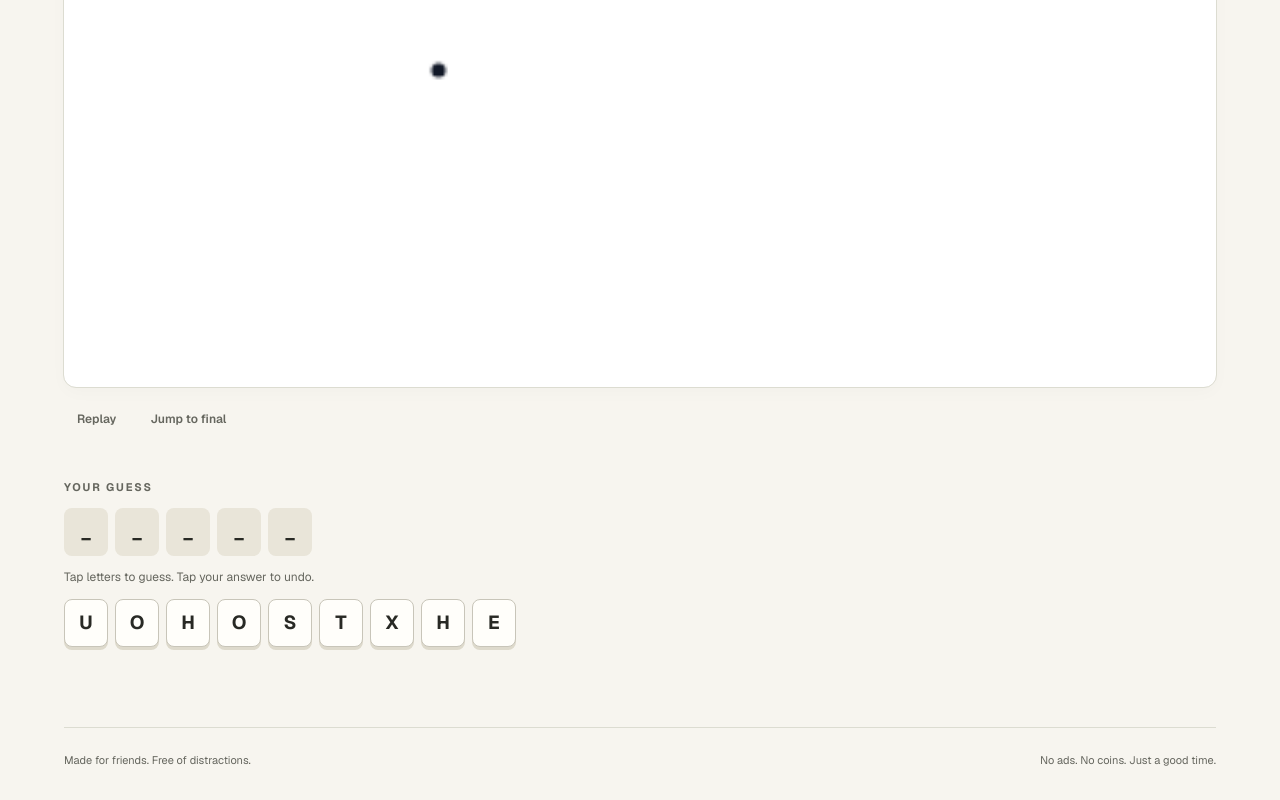
Test: TryPage (DESIGN-11 sample round) › solves with a correct guess, entirely client-side
(page scrolled)
Click the 1st button "H".
click(188, 623)  # box [166,599,210,647]
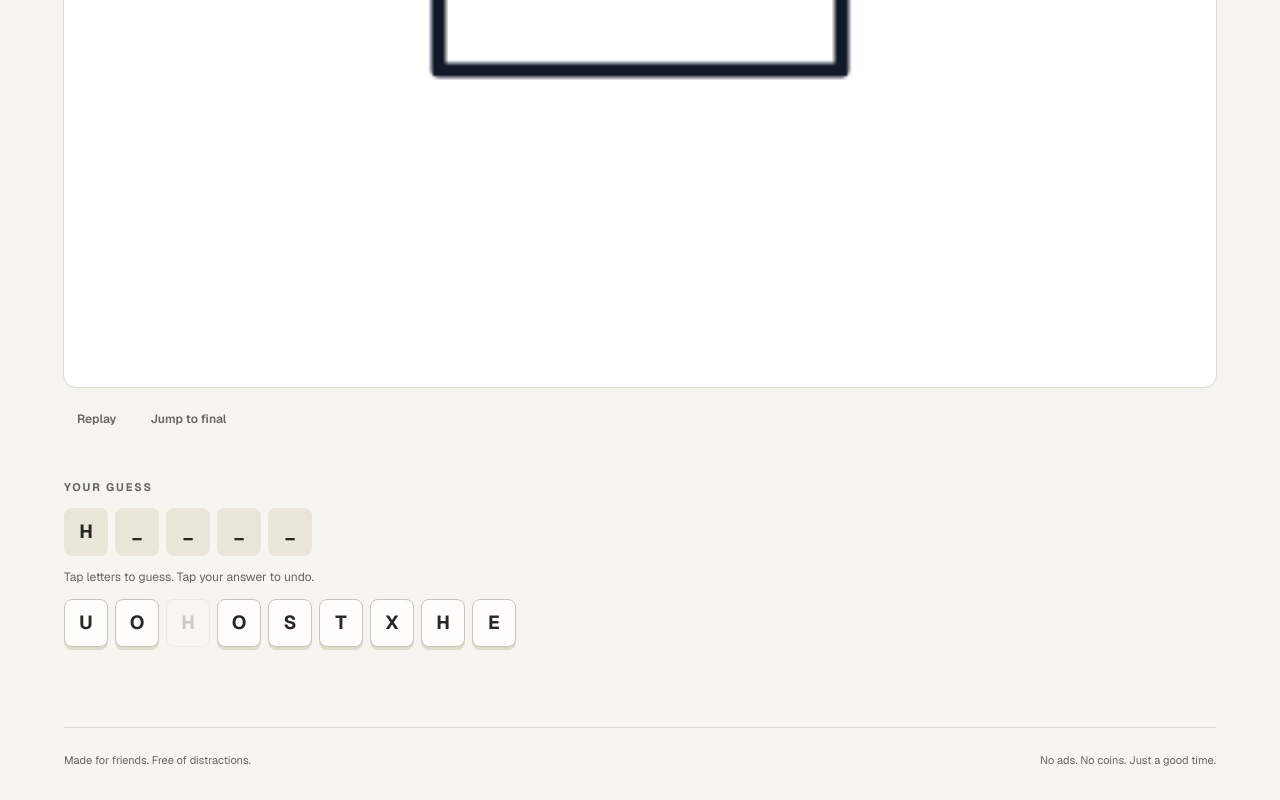
Click the 1st button "O".
click(137, 623)  # box [115,599,159,647]
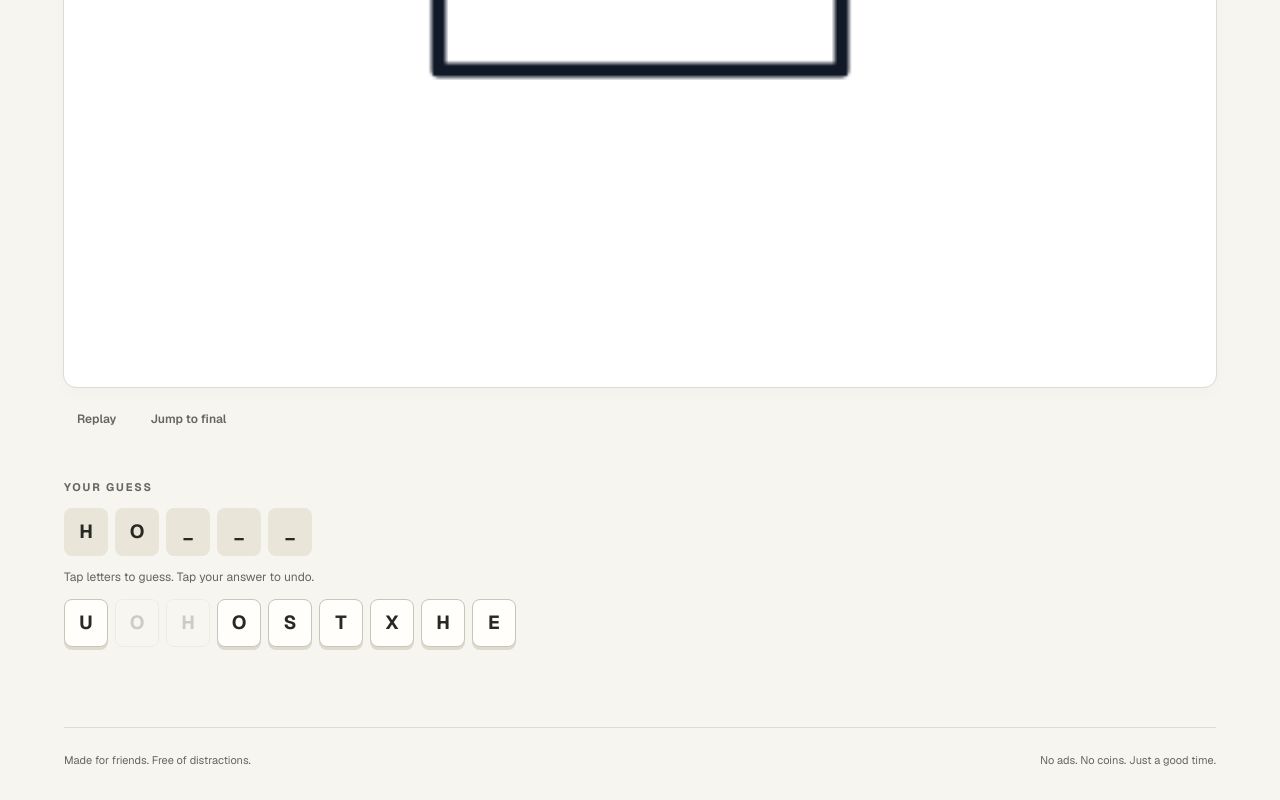
Click the button "U".
click(86, 623)  # box [64,599,108,647]
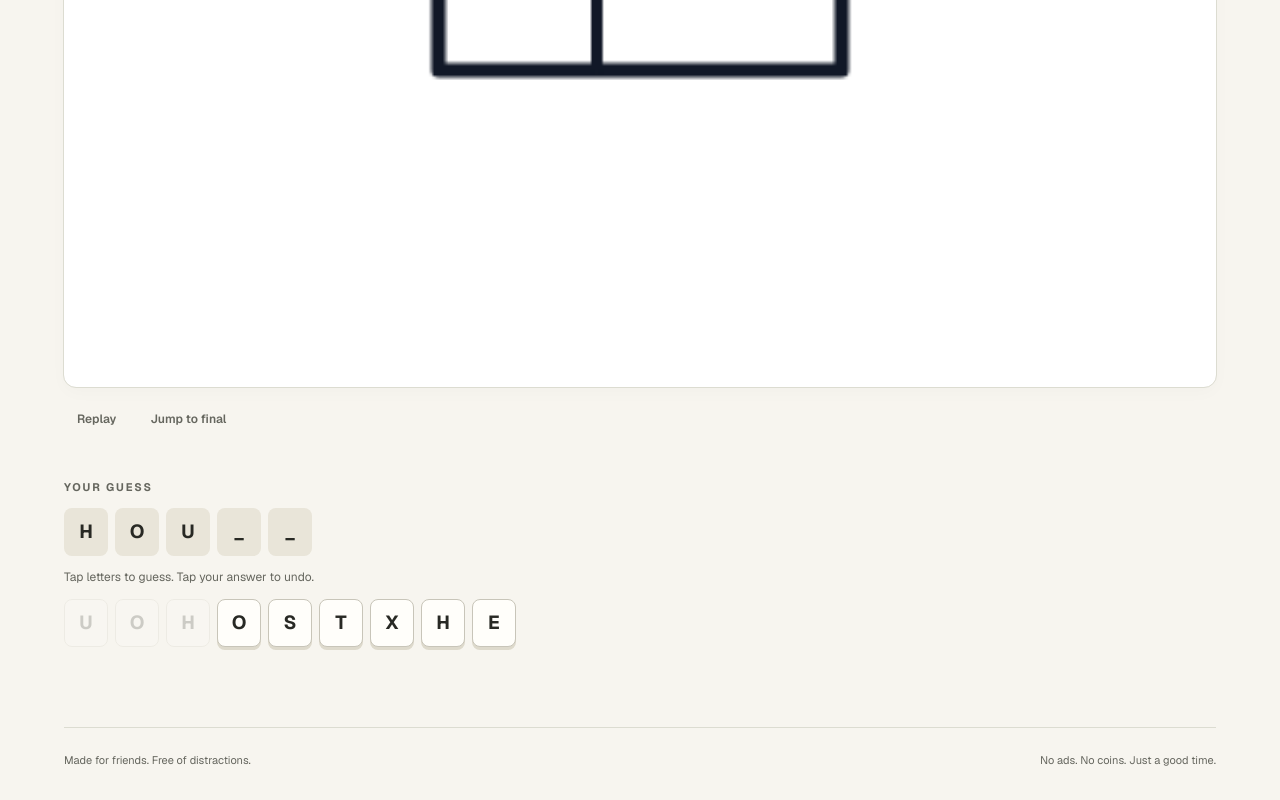
Click the button "S".
click(290, 623)  # box [268,599,312,647]
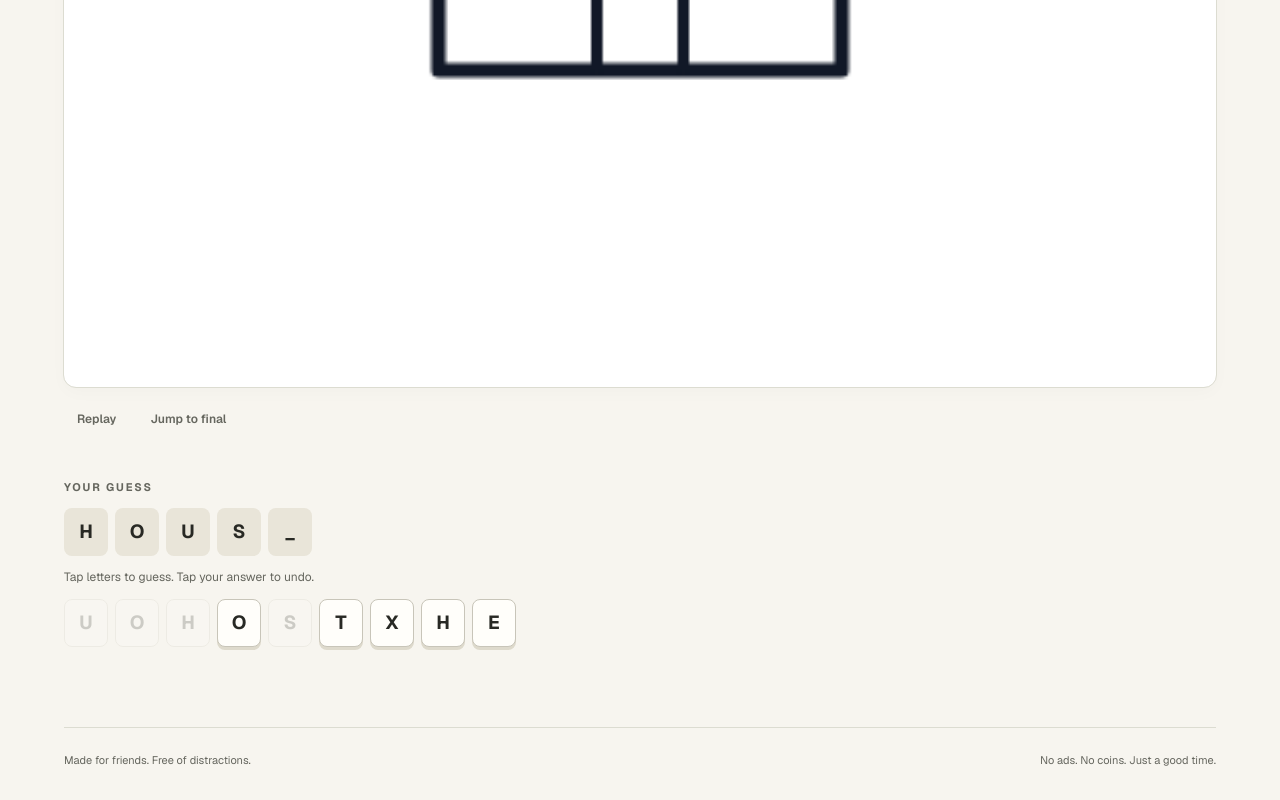
Click the button "E".
click(494, 623)  # box [472,599,516,647]
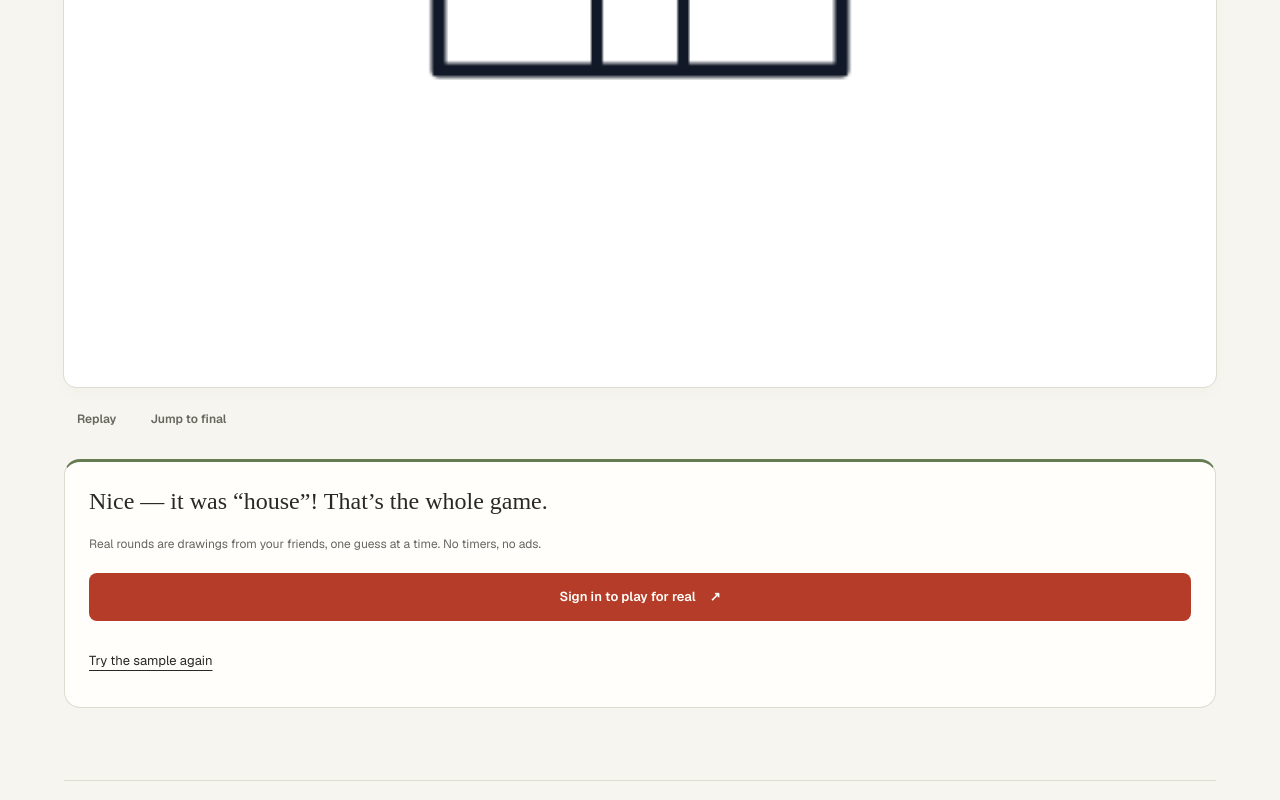
Expected: the link "Sign in to play for real ↗" is shown, [89,573,1191,621]
